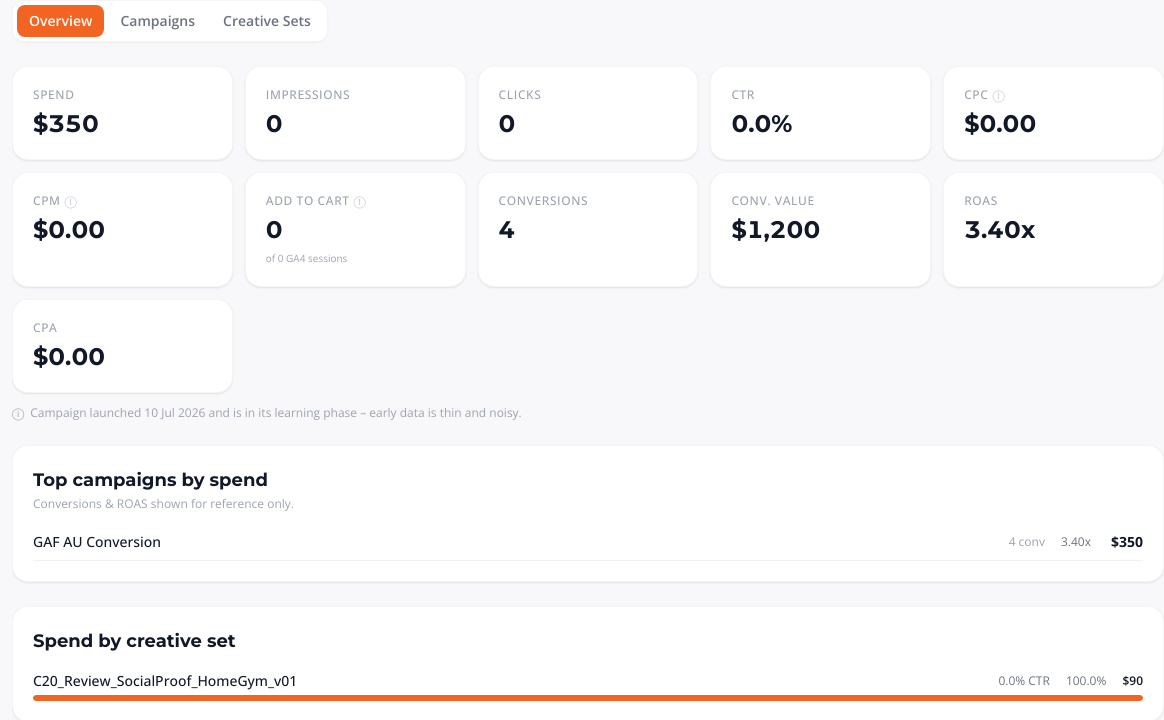
Test: renders Axon campaign, creative set and learning caveat across sub-tabs
Check: the text "GAF AU Conversion" is shown, box left=33, top=532, right=161, bottom=551
// Campaigns sub-tab
Click the tab "Campaigns".
click(158, 21)  # box left=108, top=5, right=207, bottom=37
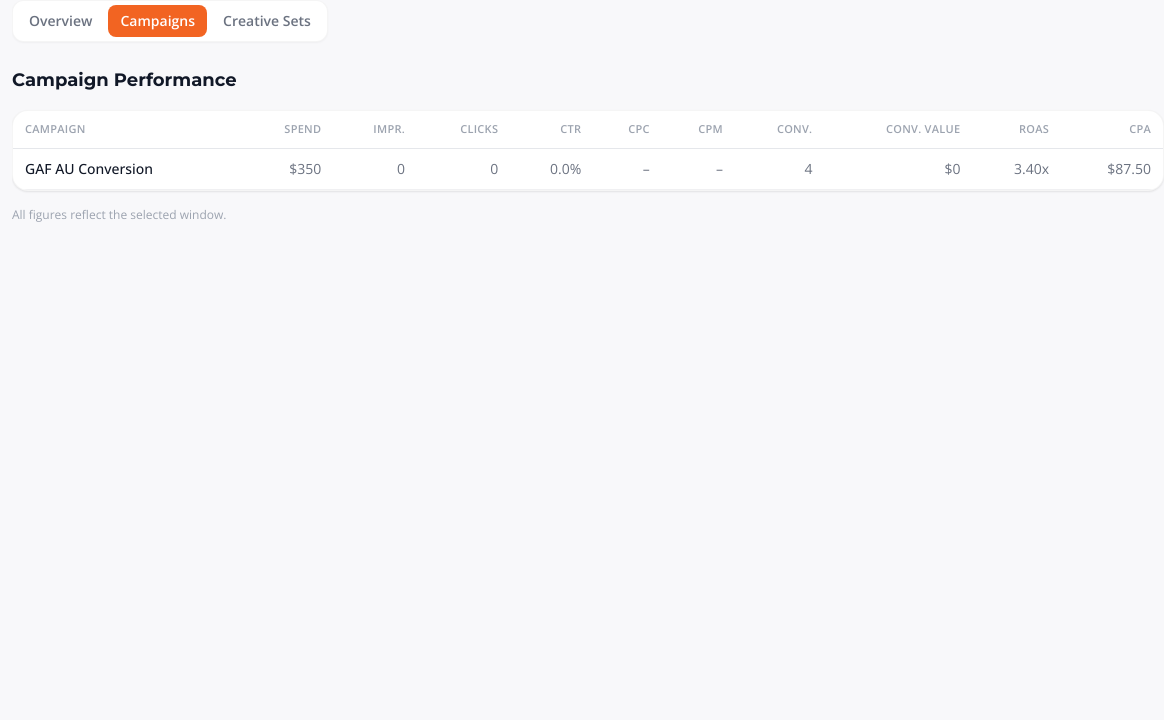
Check: the text "GAF AU Conversion" is shown, box left=13, top=148, right=242, bottom=189
// Creative Sets sub-tab
Click the tab "Creative Sets".
click(267, 21)  # box left=211, top=5, right=323, bottom=37
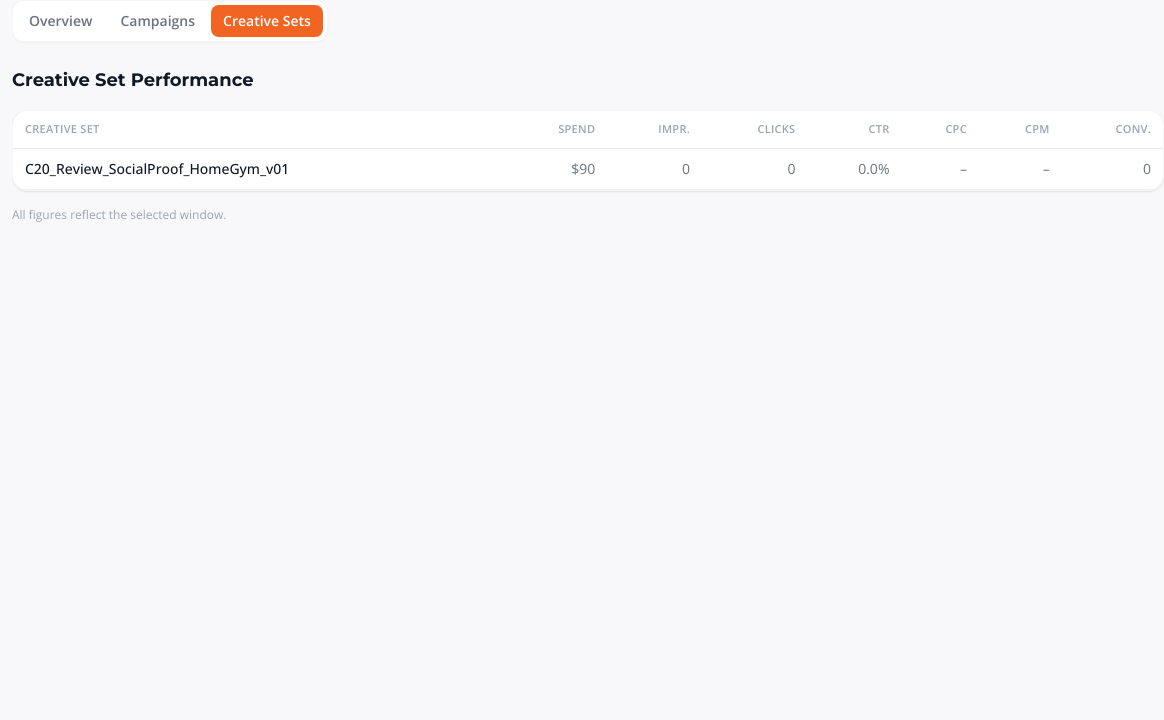
Check: the text "C20_Review_SocialProof_HomeGym_v01" is shown, box left=13, top=148, right=504, bottom=189
